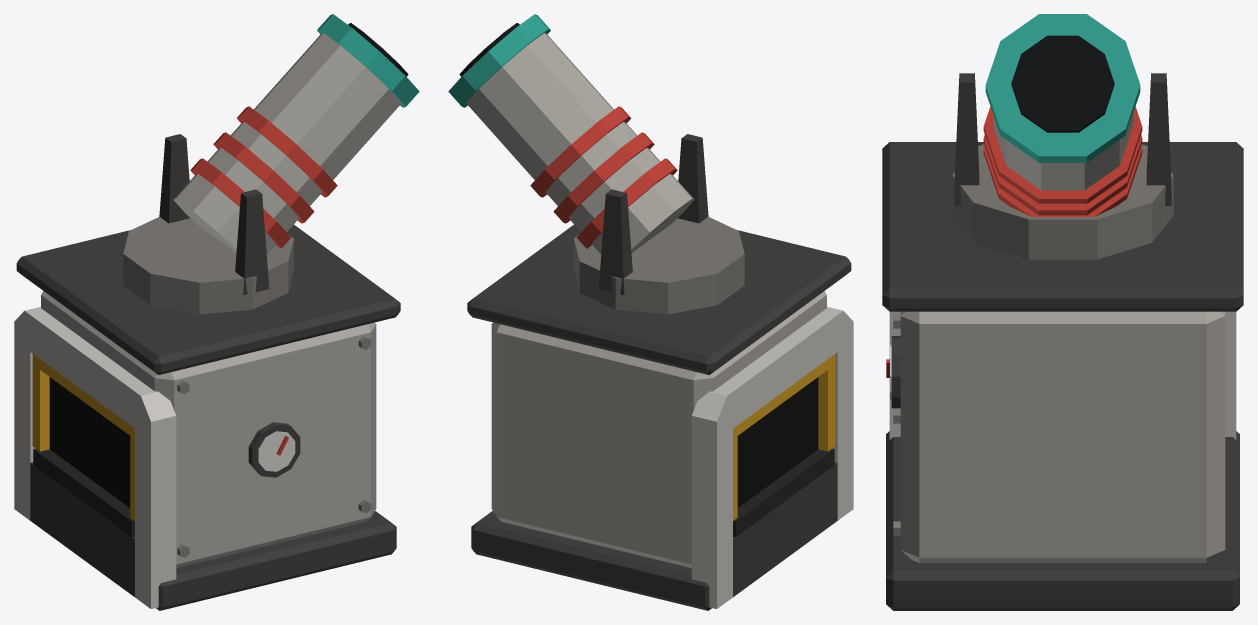
File: launcher.fbx
3 renders of one model, left to right at view 1: azimuth 30°, elevation 25°; view 2: azimuth 150°, elevation 25°; view 3: azimuth 270°, elevation 25°, orthographic. The views are drawn at different scales.
Parts seen in each view (by area): view 1: launcher; view 2: launcher; view 3: launcher.
Boxes of the visible parts, x1=… form: launcher: x1=14, y1=14, x2=419, y2=610; launcher: x1=448, y1=14, x2=853, y2=610; launcher: x1=882, y1=14, x2=1243, y2=610.
Size of the model in its own units: 3.86 by 5.46 by 2.94.
